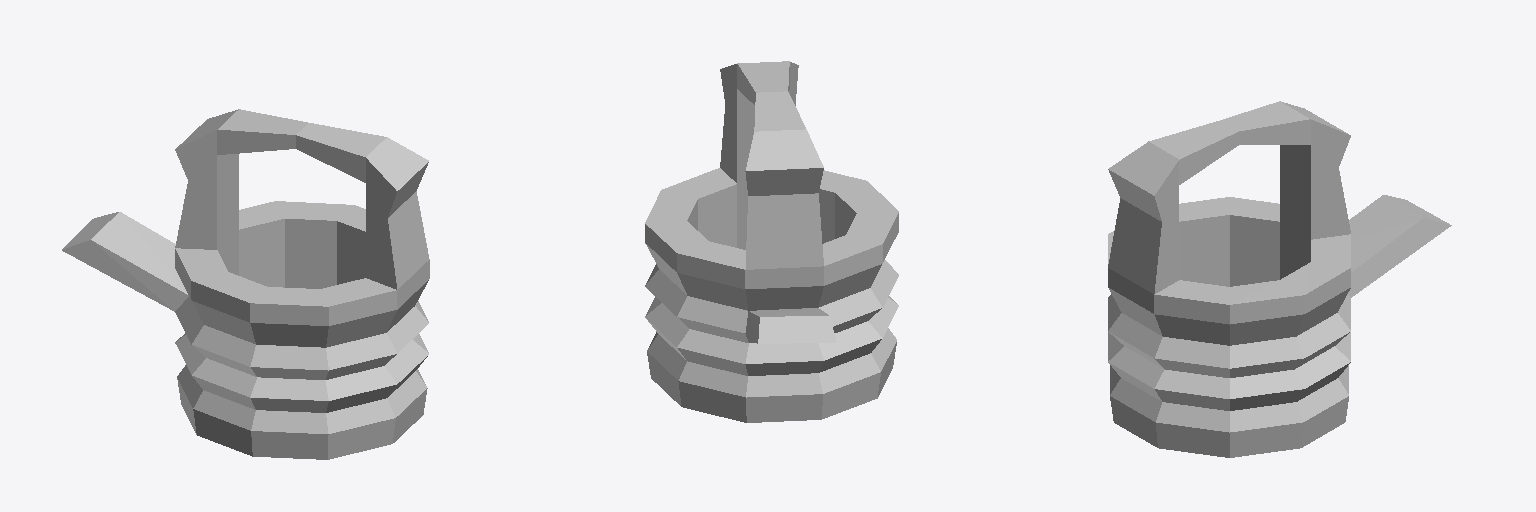
The model's file is Watering_Can.obj.
3 renders of one model, left to right at view 1: azimuth 30°, elevation 25°; view 2: azimuth 150°, elevation 25°; view 3: azimuth 270°, elevation 25°, orthographic.
Visible parts, largest first — view 1: Watering_Can; view 2: Watering_Can; view 3: Watering_Can.
Boxes of the visible parts, x1=… form: Watering_Can: x1=62, y1=109, x2=429, y2=459; Watering_Can: x1=645, y1=61, x2=898, y2=422; Watering_Can: x1=1108, y1=101, x2=1451, y2=457.
Bounding box in the file's own units: 1.38 × 1.41 × 1.56.